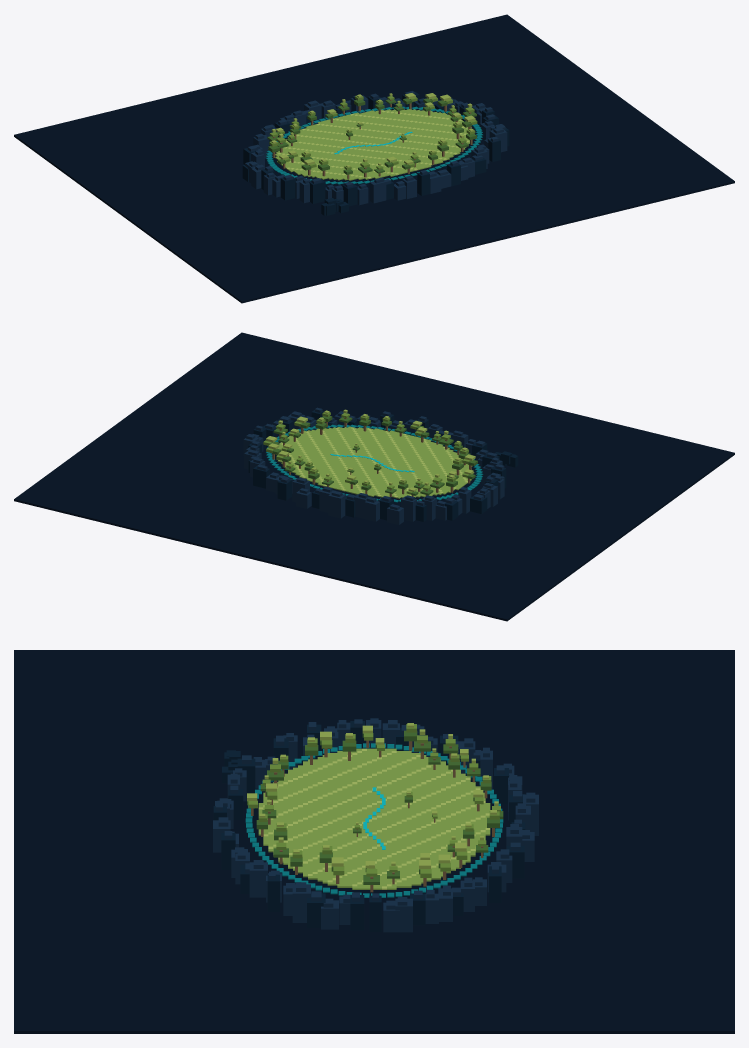
File: island_purified.glb
The picture shows the model from 3 angles, top to bottom: view 1: azimuth 30°, elevation 25°; view 2: azimuth 150°, elevation 25°; view 3: azimuth 270°, elevation 25°; orthographic projection. The views are drawn at different scales.
Parts seen in each view (by area): view 1: sea, cliffs, grass, trees, shore_glint; view 2: sea, cliffs, grass, trees, shore_glint; view 3: sea, grass, cliffs, trees, shore_glint.
Part boxes in pixels (x1=…): sea: x1=14, y1=14, x2=734, y2=303; cliffs: x1=242, y1=91, x2=509, y2=215; grass: x1=275, y1=109, x2=471, y2=180; trees: x1=267, y1=93, x2=477, y2=178; shore_glint: x1=265, y1=106, x2=482, y2=184; sea: x1=14, y1=332, x2=734, y2=621; cliffs: x1=243, y1=407, x2=518, y2=524; grass: x1=276, y1=426, x2=474, y2=498; trees: x1=263, y1=409, x2=477, y2=497; shore_glint: x1=266, y1=424, x2=483, y2=502; sea: x1=14, y1=650, x2=734, y2=1033; grass: x1=258, y1=748, x2=490, y2=889; cliffs: x1=213, y1=718, x2=538, y2=932; trees: x1=247, y1=723, x2=503, y2=892; shore_glint: x1=245, y1=743, x2=503, y2=897.
Bounding box in the file's own units: 210 × 13.61 × 168.
